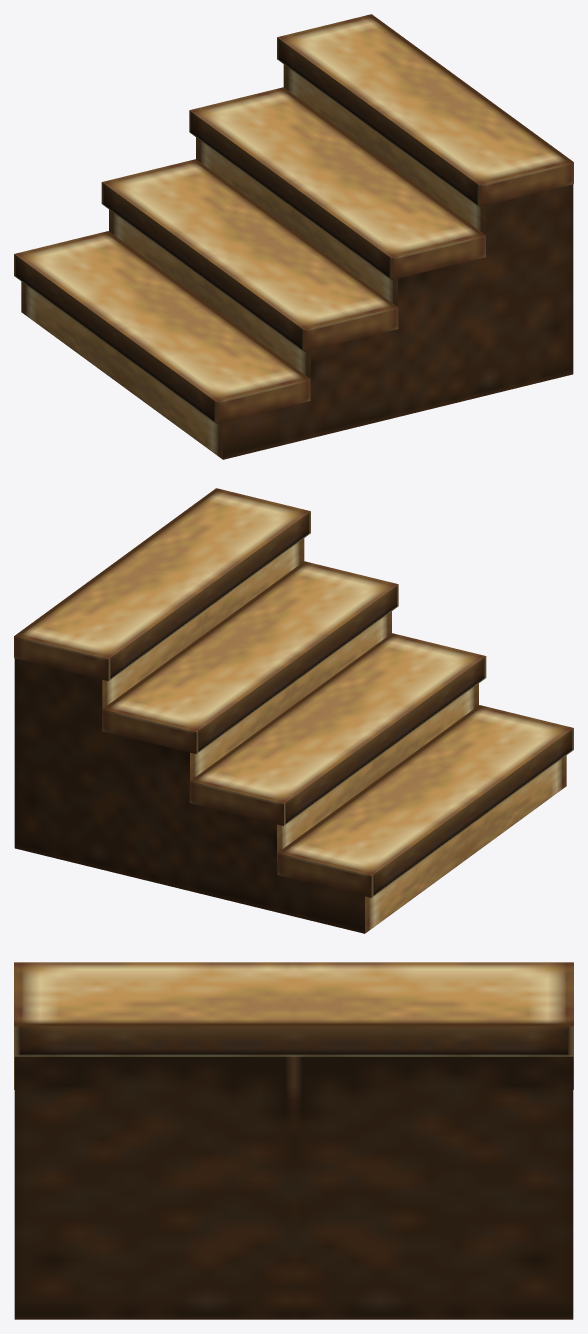
The model's file is Poly_Stairs_02_Left.obj.
The picture shows the model from 3 angles, top to bottom: view 1: azimuth 30°, elevation 25°; view 2: azimuth 150°, elevation 25°; view 3: azimuth 270°, elevation 25°; orthographic projection. The views are drawn at different scales.
Parts seen in each view (by area): view 1: Cube.001, Cube.005; view 2: Cube.001, Cube.005; view 3: Cube.005, Cube.001.
Boxes of the visible parts, x1,y1,x2,y2 form: Cube.001: (14, 14, 573, 423); Cube.005: (21, 64, 573, 459); Cube.001: (14, 488, 573, 897); Cube.005: (14, 538, 566, 933); Cube.005: (14, 1056, 573, 1319); Cube.001: (14, 962, 573, 1089).
Size of the model in its own units: 1.02 by 0.58 by 1.
Materials: 1 (1 with a texture image).
